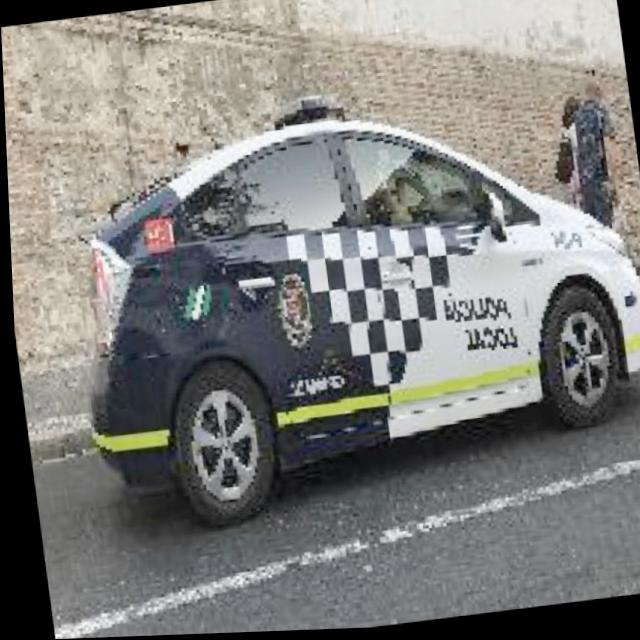emergency: (42, 58, 640, 544)
